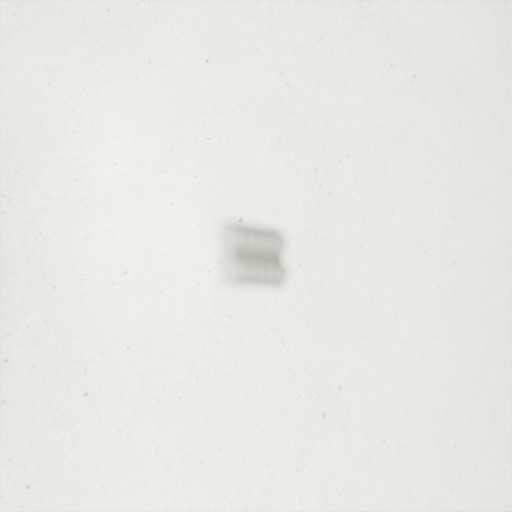lego: (218, 220, 289, 289)
